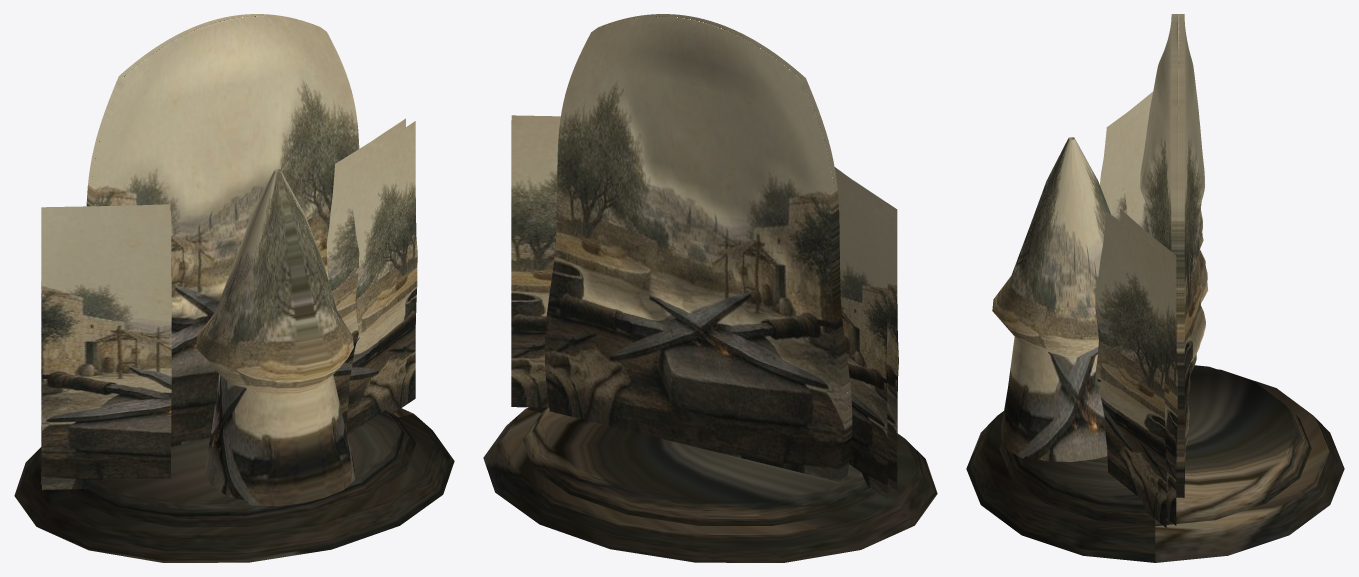
Rendered from the-beginning-of-wisdom-25.glb.
3 renders of one model, left to right at view 1: azimuth 30°, elevation 25°; view 2: azimuth 150°, elevation 25°; view 3: azimuth 270°, elevation 25°, orthographic. The views are drawn at different scales.
Visible parts, largest first — view 1: PaintingSculptureMonument; view 2: PaintingSculptureMonument; view 3: PaintingSculptureMonument.
Part boxes in pixels (left/top/right/bottom): PaintingSculptureMonument: left=14, top=14, right=454, bottom=562; PaintingSculptureMonument: left=483, top=14, right=937, bottom=562; PaintingSculptureMonument: left=966, top=14, right=1344, bottom=562.
Size of the model in its own units: 2.76 by 2.99 by 2.35.
Materials: 1 (1 with a texture image).
